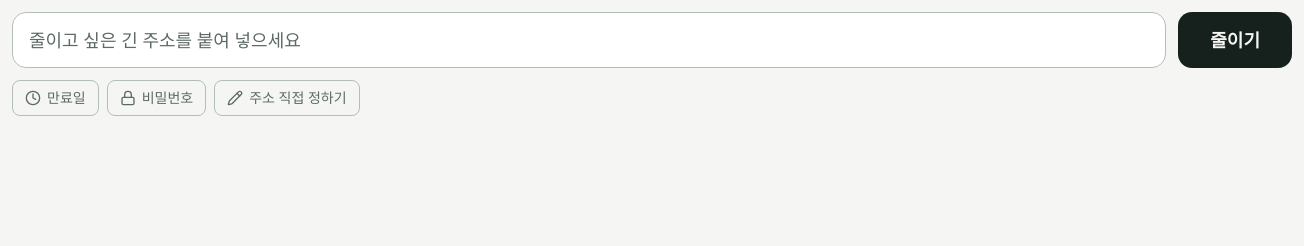
Test case: Composer › 옵션 버튼은 눌림 상태를 알려 준다
Step 1. Click the button "만료일" → (55, 98), box [12, 80, 99, 116]
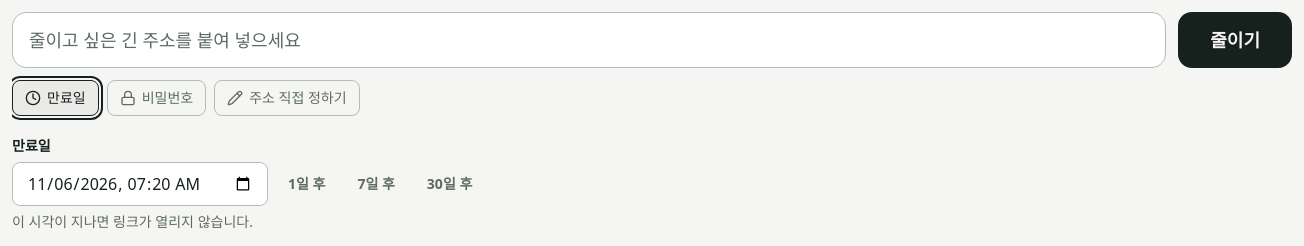
Expected: the field labelled "만료일" is shown, [12, 162, 268, 206]
